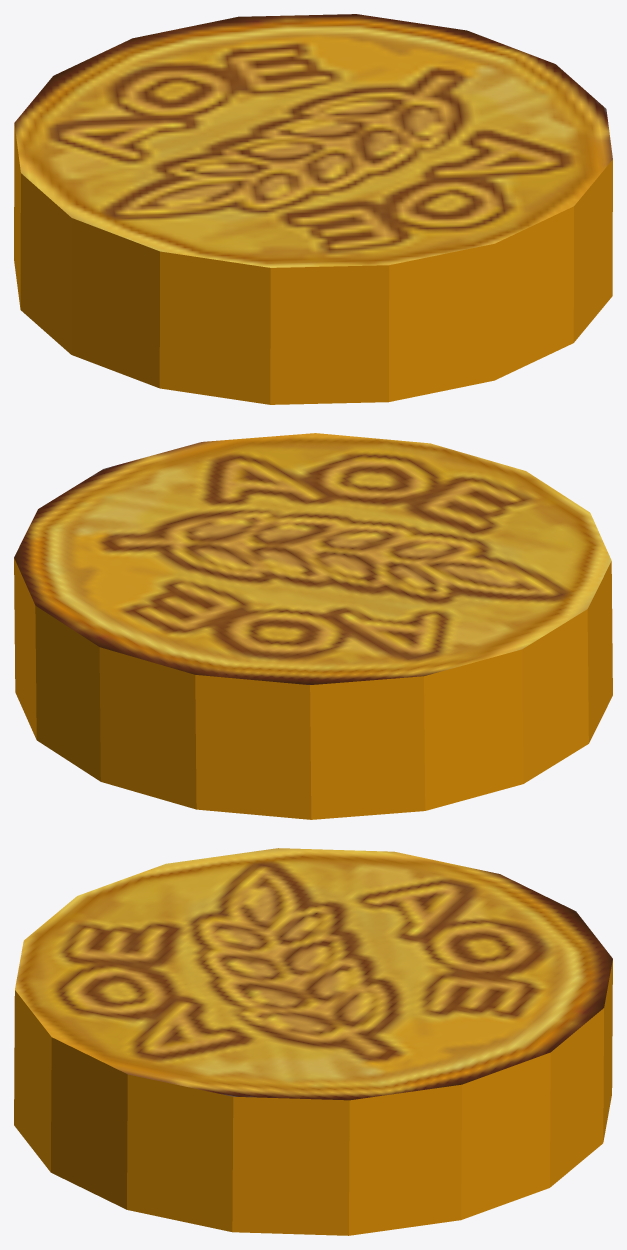
Rendered from coin.fbx.
3 renders of one model, top to bottom at view 1: azimuth 30°, elevation 25°; view 2: azimuth 150°, elevation 25°; view 3: azimuth 270°, elevation 25°, orthographic.
Visible parts, largest first — view 1: Coin; view 2: Coin; view 3: Coin.
Boxes of the visible parts, <box> form: Coin: <box>14,14,612,404</box>; Coin: <box>14,433,612,819</box>; Coin: <box>14,848,612,1235</box>.
Size of the model in its own units: 63.15 by 15.92 by 63.14.
